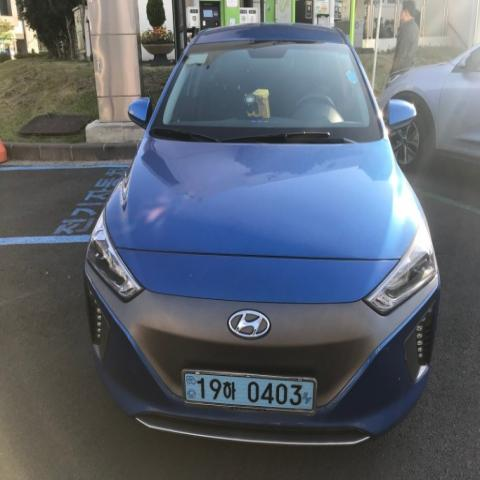LP: (172, 359, 325, 423)
